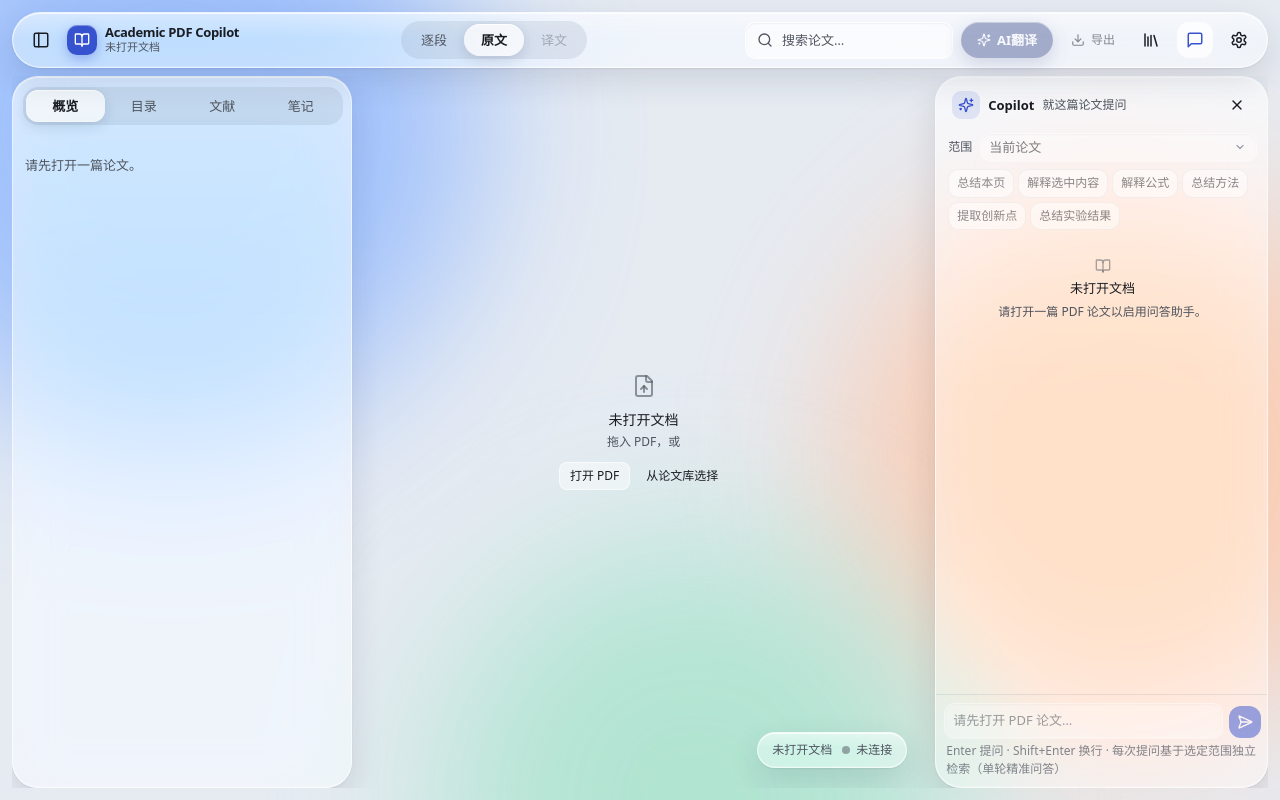
Test: DS-DOC-005 · the doors › opens from the empty workspace, where a reader with no paper is (AC-P0-06)
Check: the element with test id "pdf-empty-state" is shown, box [559,374,728,490]
Click the button with test id "open-from-library": {"x": 682, "y": 476} [636,462,728,490]
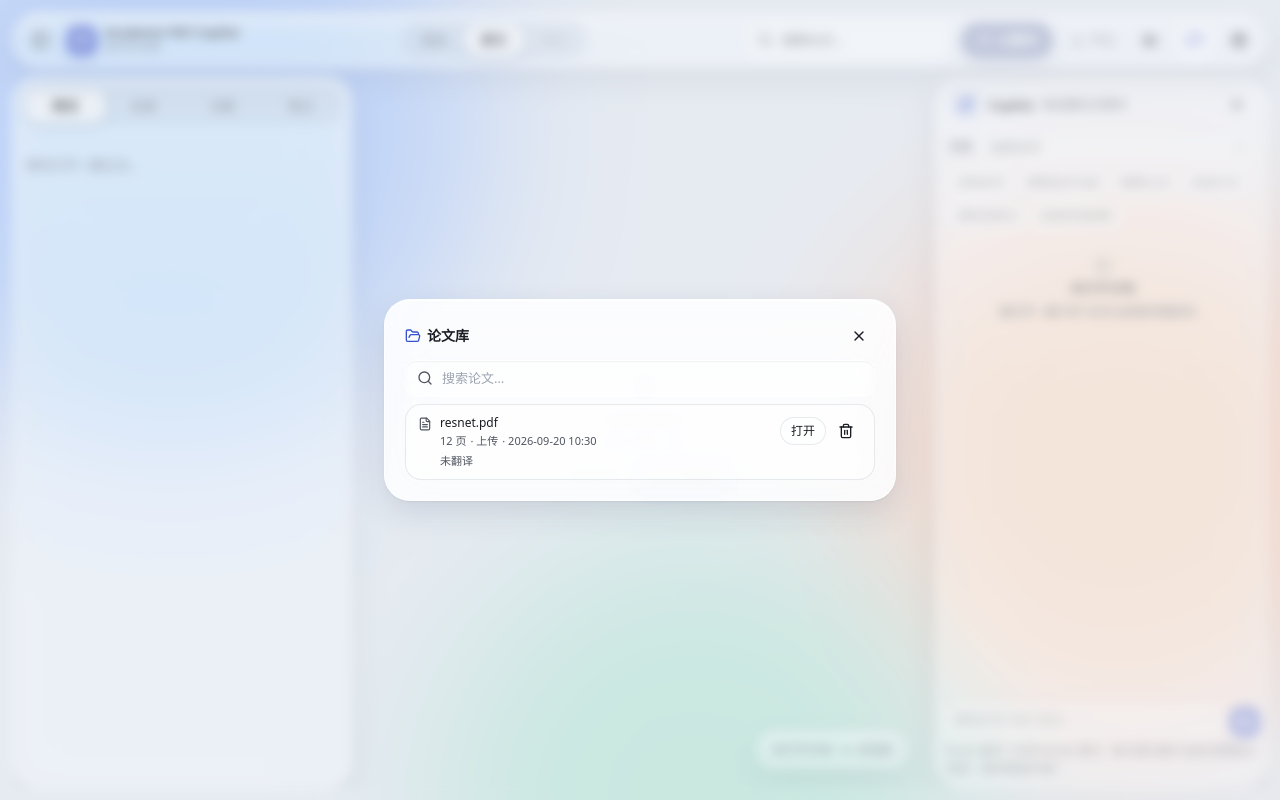
Check: the dialog with test id "library-dialog" is shown, box [384,299,896,501]
